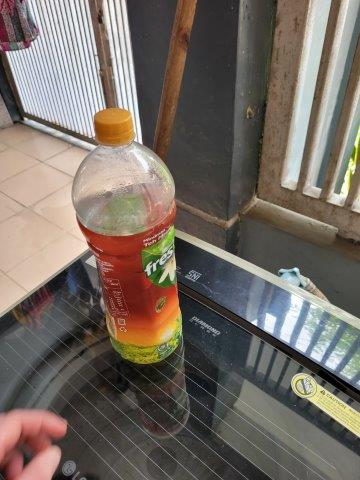botolplastik: (72, 106, 184, 361)
